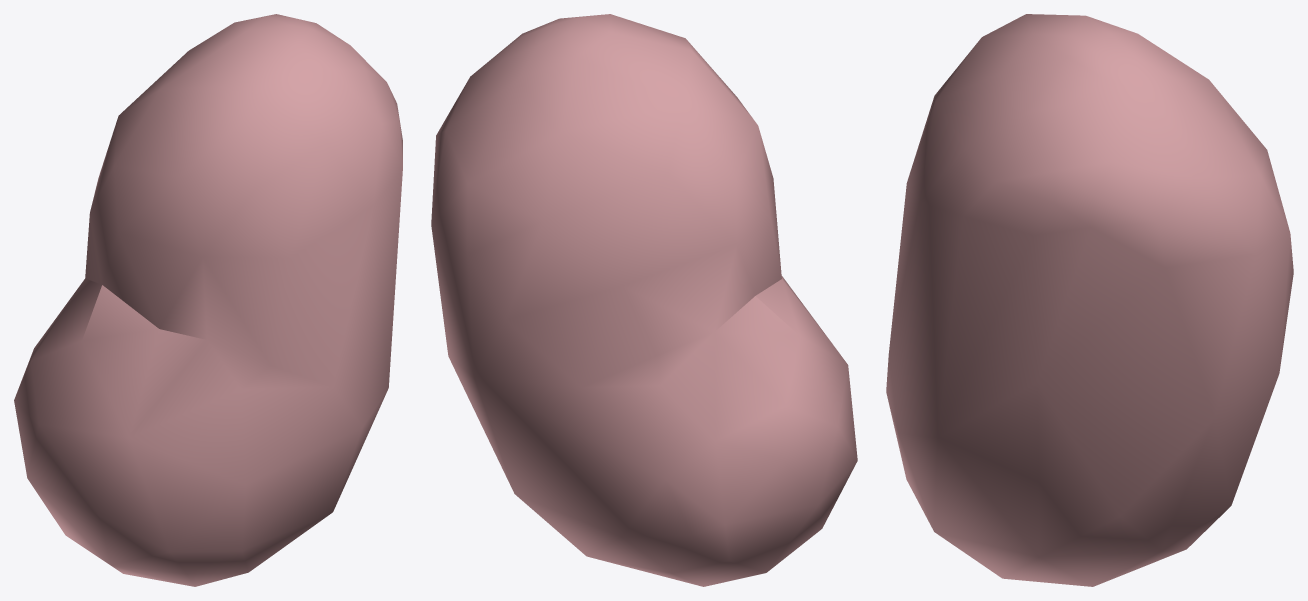
Rendered from fma14966_fj2590.glb.
The picture shows the model from 3 angles, left to right: view 1: azimuth 30°, elevation 25°; view 2: azimuth 150°, elevation 25°; view 3: azimuth 270°, elevation 25°; orthographic projection. The views are drawn at different scales.
Parts seen in each view (by area): view 1: FMA14966_FJ2590; view 2: FMA14966_FJ2590; view 3: FMA14966_FJ2590.
Boxes of the visible parts, <box> form: FMA14966_FJ2590: <box>14,14,402,586</box>; FMA14966_FJ2590: <box>431,14,857,586</box>; FMA14966_FJ2590: <box>886,14,1293,586</box>.
Size of the model in its own units: 0.0271 by 0.0372 by 0.0232.
